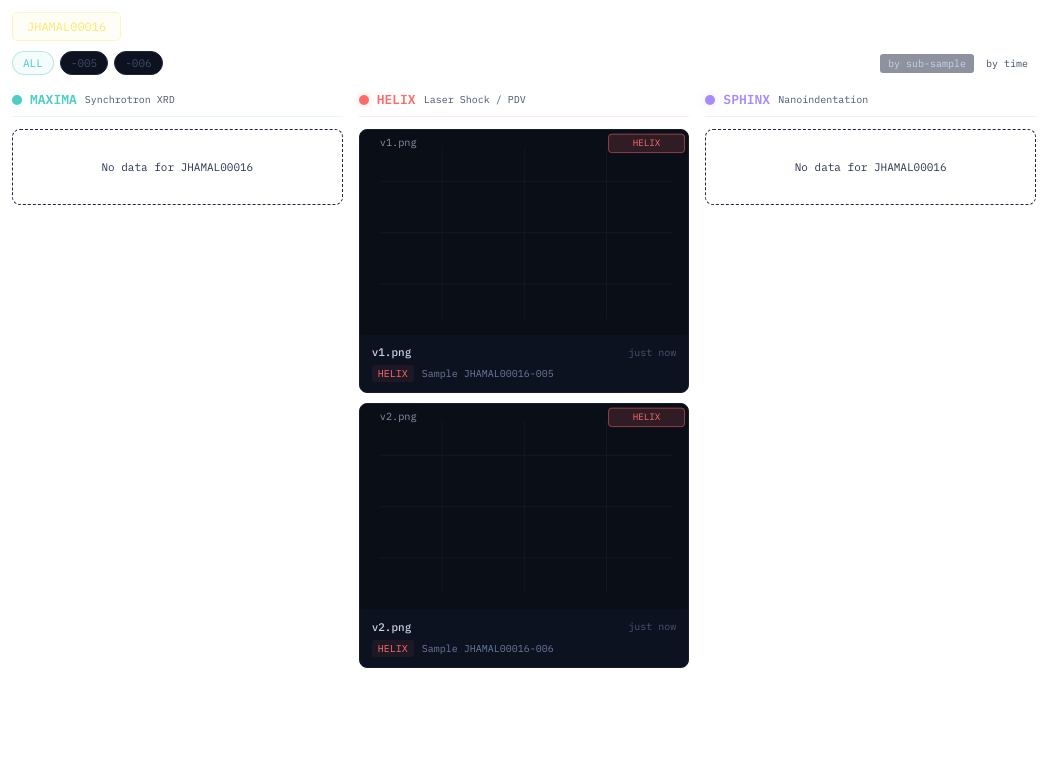
Test case: SampleComparisonView › selecting a suffix filters to that sub-sample
Click the button "-005": click(84, 63) [60,51,108,75]
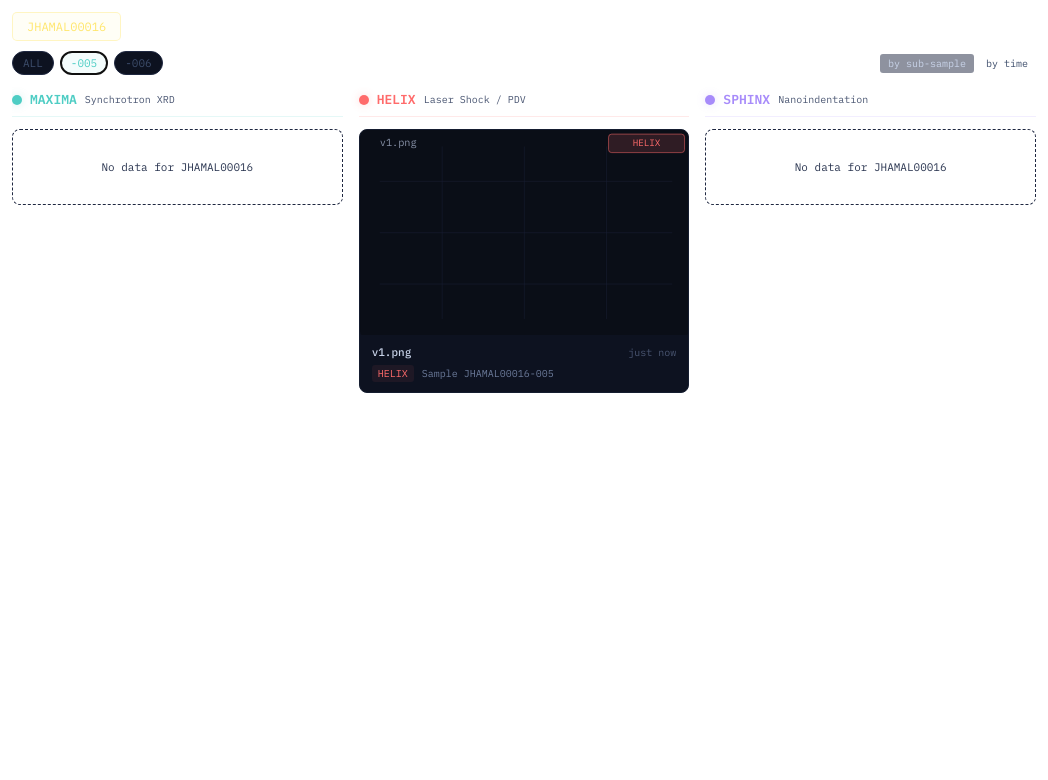
Check: the text "v1.png" is shown, box [379,135,416,149]
Check: no icons "v2.png" are shown
